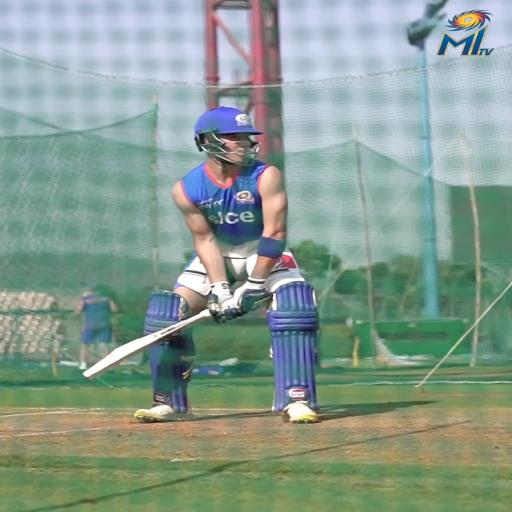Cricket bat: (83, 310, 210, 378)
